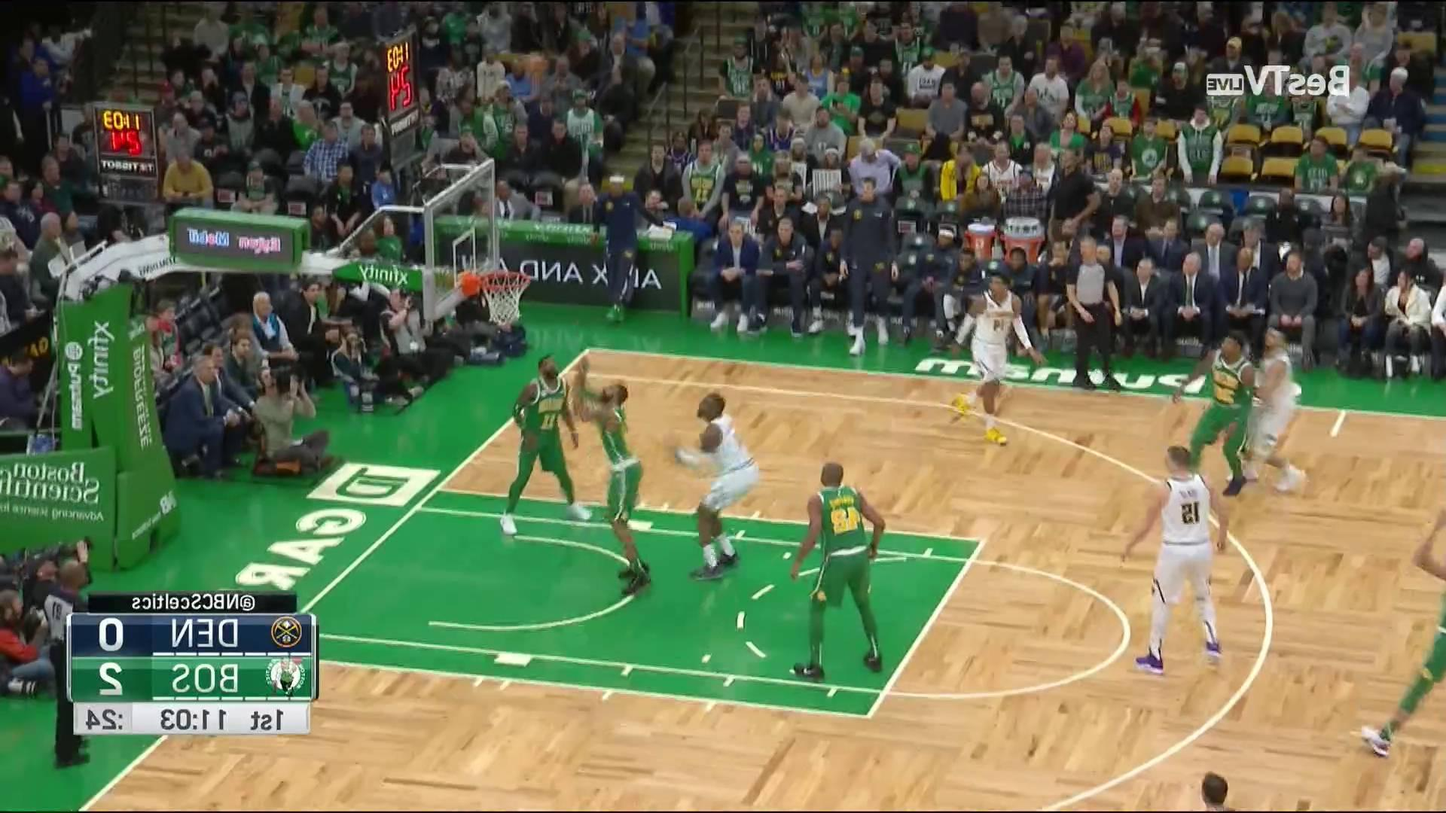basketball: (516, 49, 547, 77)
